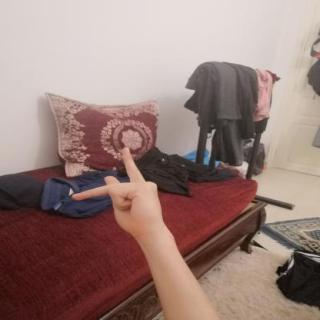DHAA: (63, 140, 168, 240)
